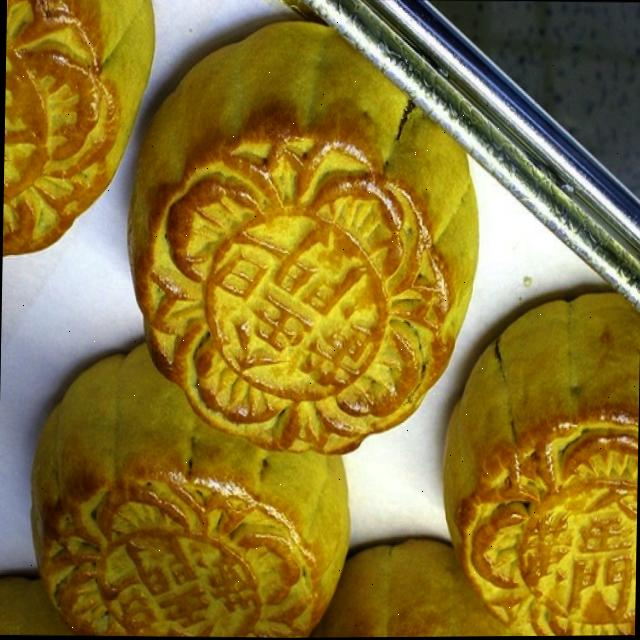蛋糕甜品: (12, 0, 628, 628)
